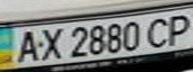0: (121, 18, 145, 52)
2: (66, 24, 90, 58)
8: (103, 20, 127, 54), (87, 22, 109, 56)
A: (9, 27, 42, 63)
C: (142, 15, 175, 48)
P: (160, 11, 193, 45)
X: (33, 25, 66, 62)
